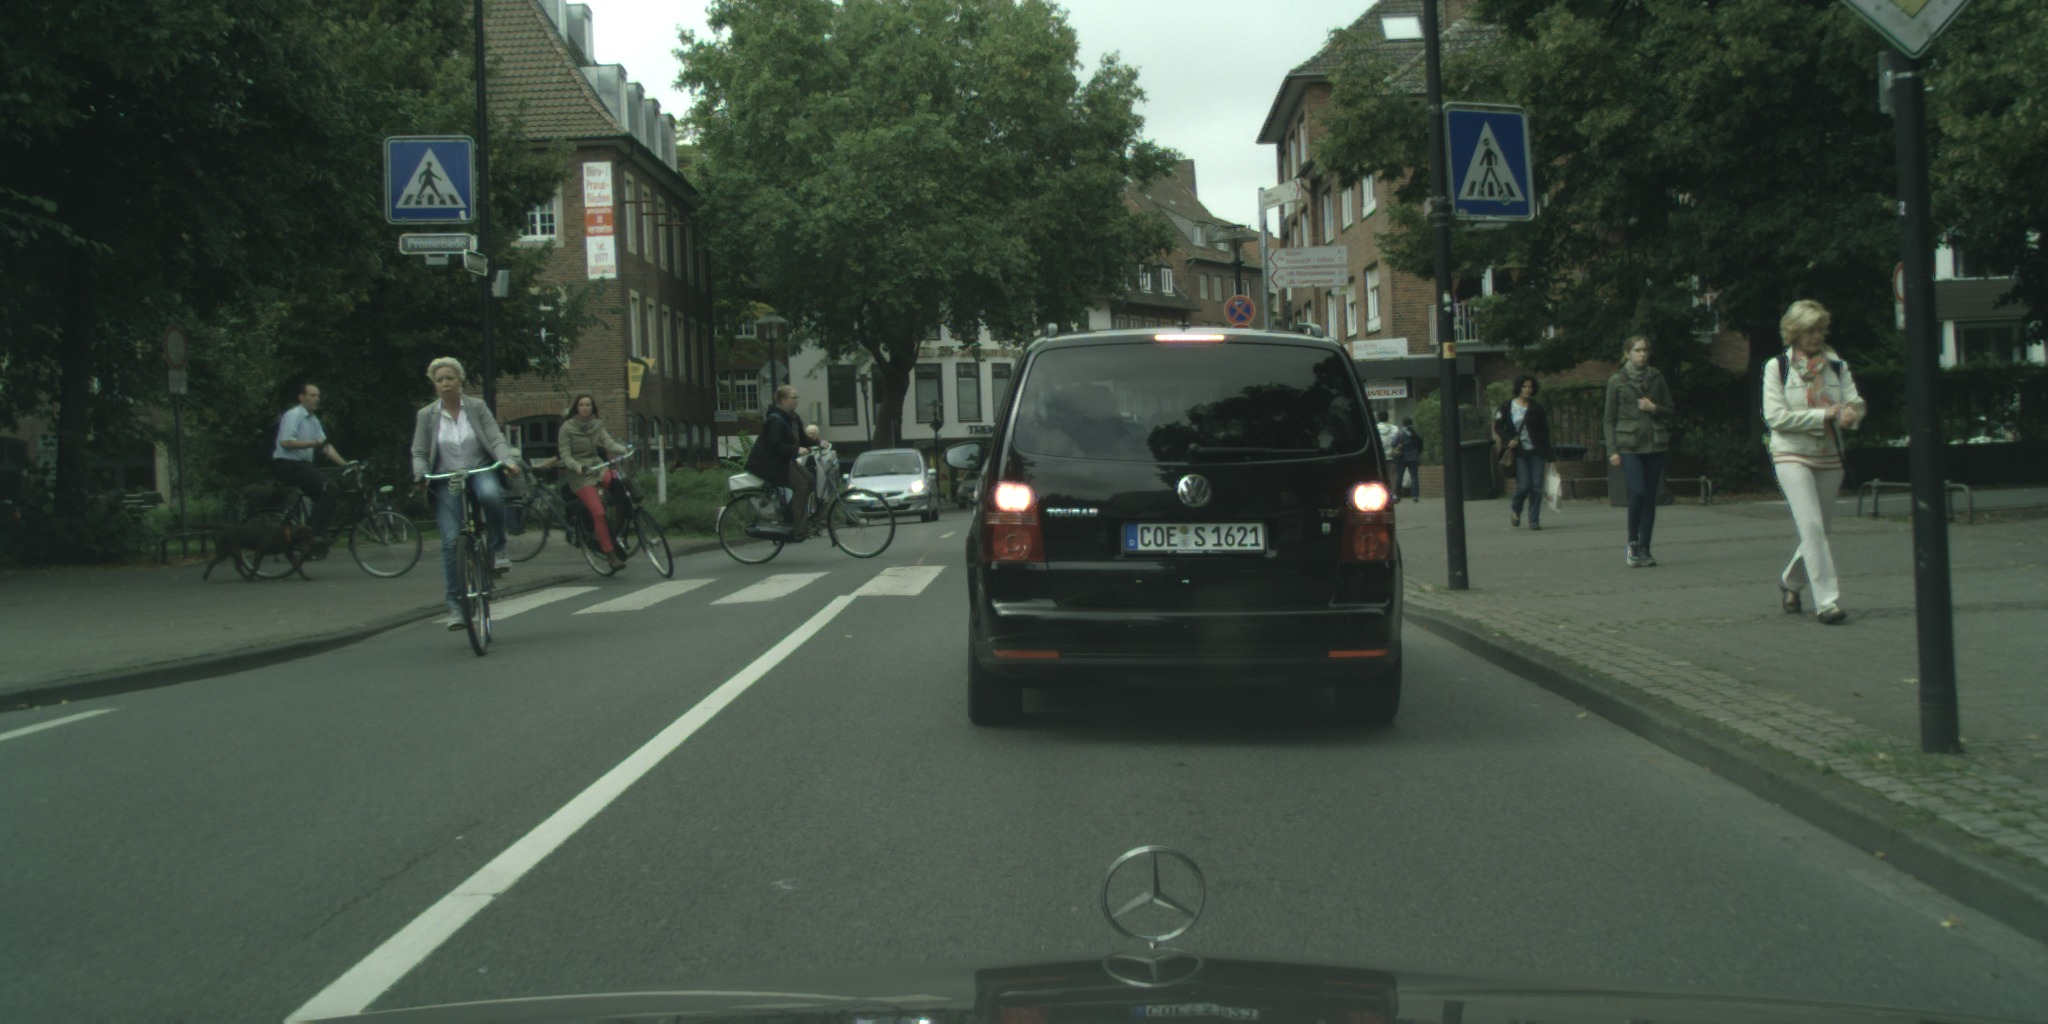bicycle: (228, 459, 423, 579), (715, 445, 894, 563), (490, 456, 645, 565), (423, 458, 507, 657), (555, 443, 672, 579)
car: (943, 321, 1405, 726), (842, 447, 940, 527), (955, 468, 989, 509)
person: (1762, 298, 1865, 624), (1601, 334, 1675, 569), (1492, 373, 1565, 531), (1367, 410, 1405, 505), (1390, 414, 1422, 505), (797, 423, 825, 518)
rider: (411, 356, 521, 632), (270, 382, 354, 547), (744, 384, 829, 544), (557, 393, 631, 571)
